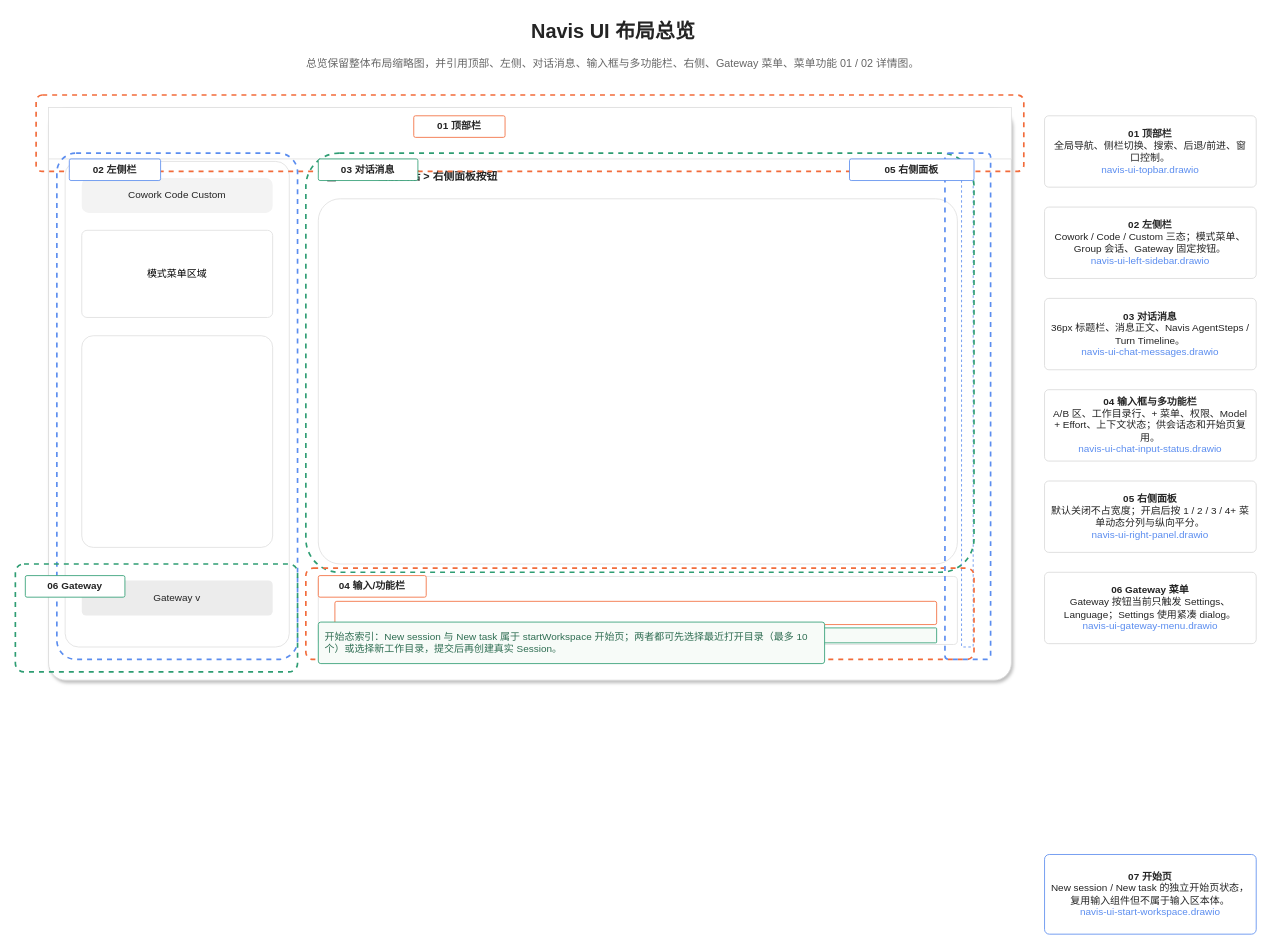
The diagram is 1271 pixels wide and 949 high, and some of its shapes have lost their labels. Each missing label, with the centre of its shape:
"A Input: Request the next change" belongs at point (635, 613).
"Group / 会话区域" belongs at point (177, 441).
"对话消息正文区" belongs at point (637, 381).
"默认关闭，不占宽度" belongs at point (967, 404).
